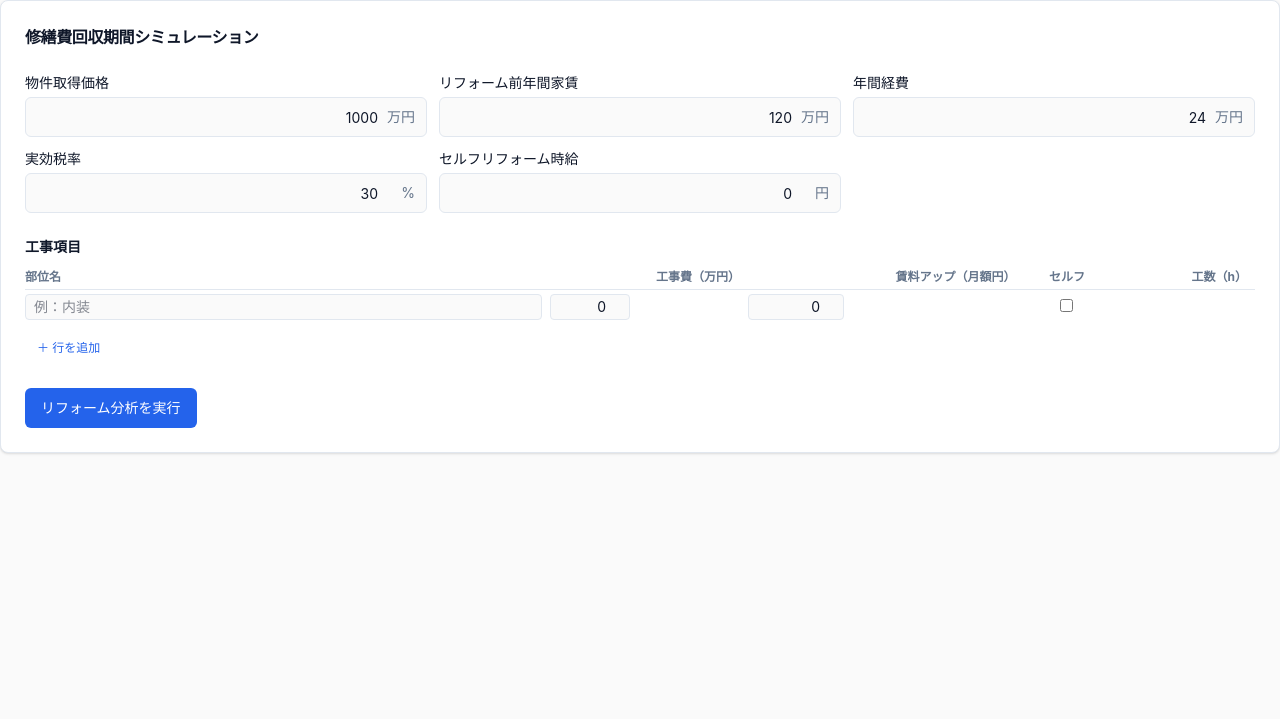
RenovationPanel › API成功後に修繕費回収期間が表示される
Replace the text in the 1st number field with "100" at (590, 307), box [550, 294, 630, 320]
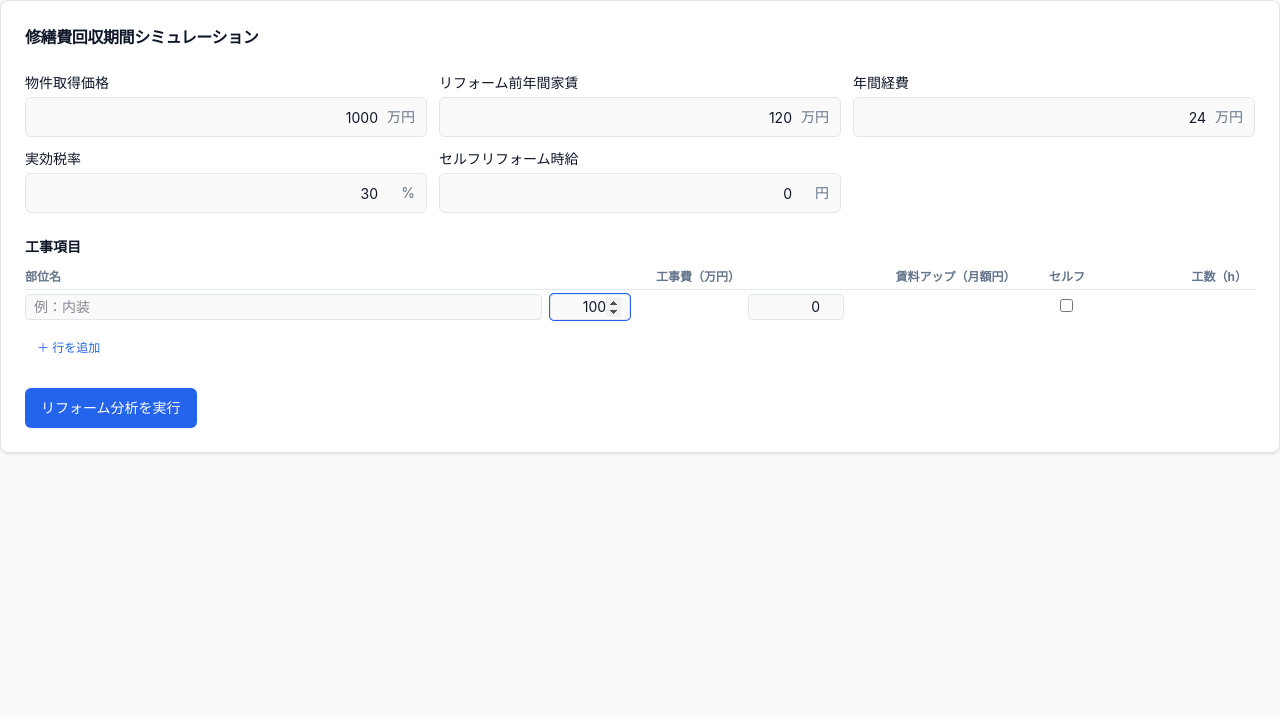
Click the button "リフォーム分析を実行".
click(111, 408)  # box [25, 388, 197, 428]
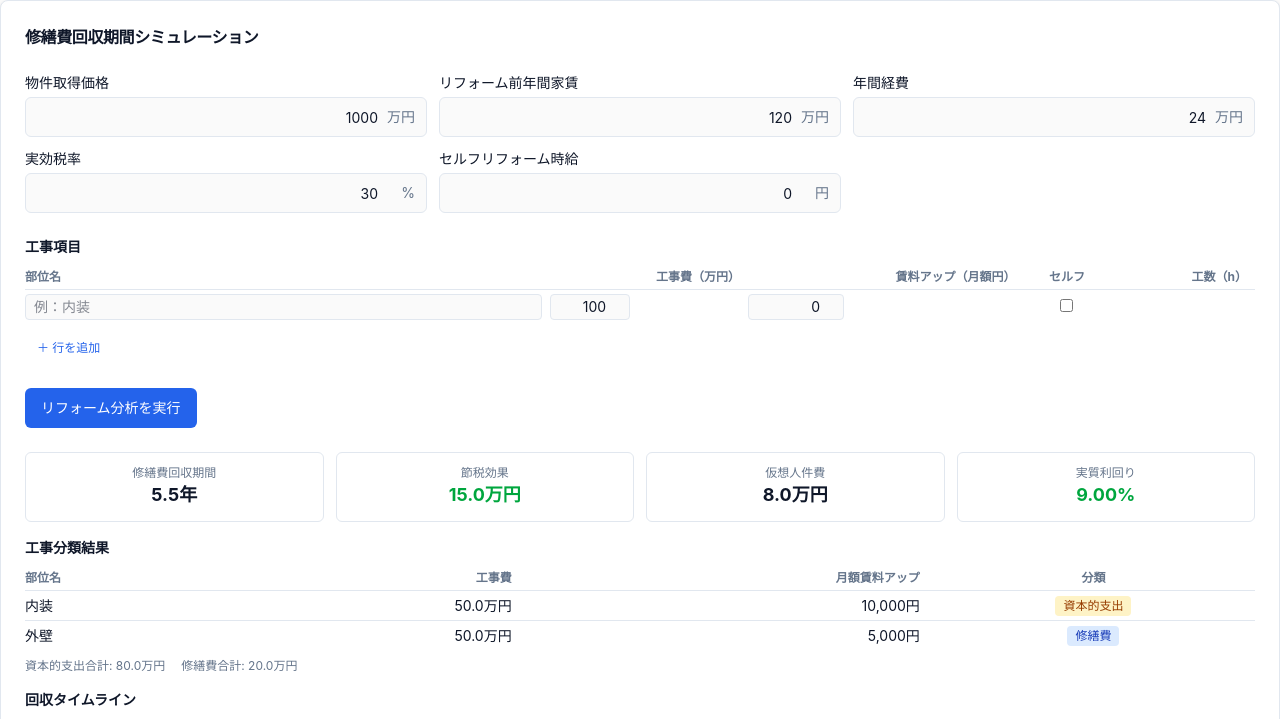
Now the text "5.5年" is shown, box [151, 484, 197, 505]
Now the text "修繕費回収期間" is shown, box [132, 465, 216, 480]
